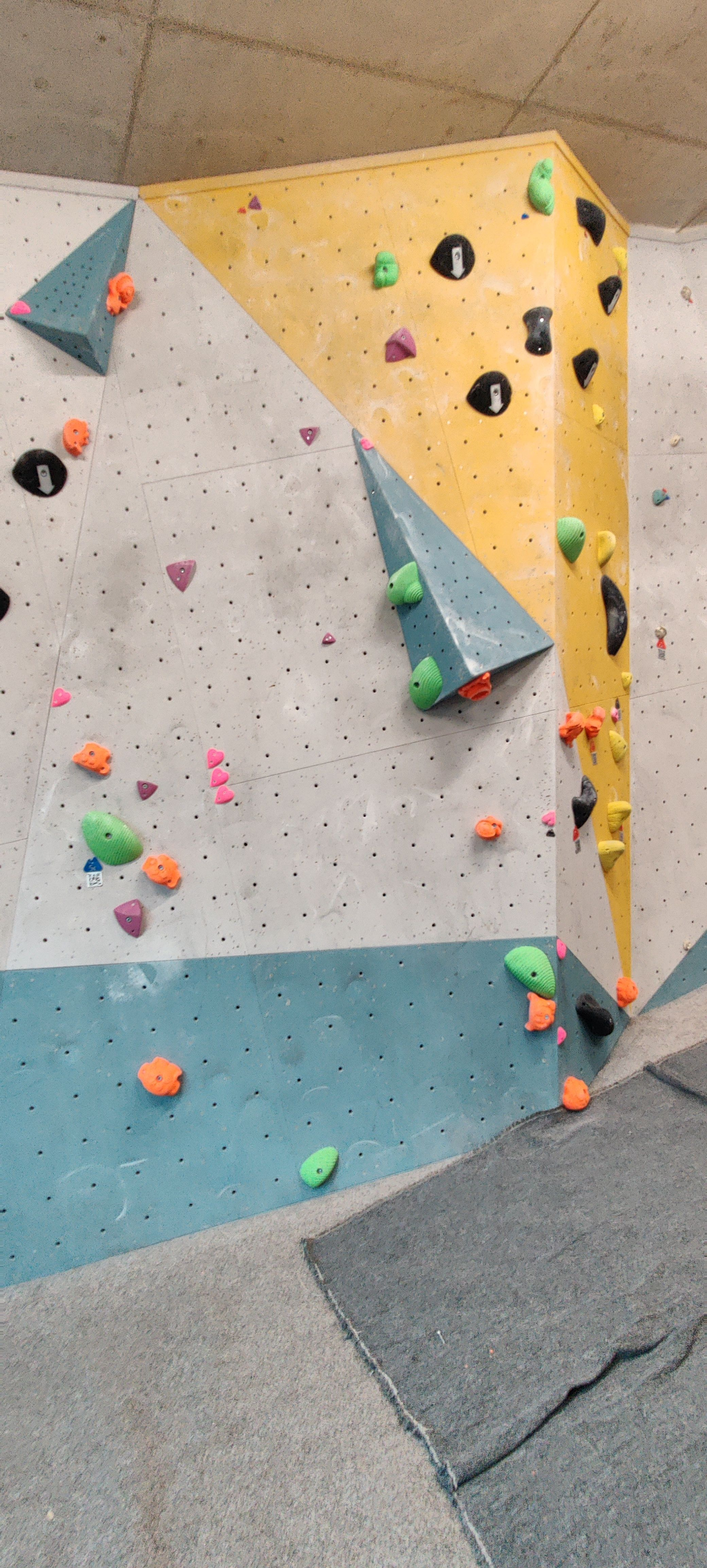hold: (81, 811, 143, 865), (504, 946, 556, 999), (12, 449, 67, 497), (601, 575, 627, 656), (431, 233, 475, 280), (467, 371, 511, 416), (138, 1057, 183, 1096), (409, 657, 442, 710), (575, 994, 614, 1036), (300, 1146, 338, 1188), (388, 561, 423, 606), (527, 160, 554, 215), (523, 306, 552, 356), (576, 197, 606, 245), (571, 775, 597, 830), (556, 517, 586, 563), (142, 854, 181, 889), (73, 742, 112, 775), (106, 272, 135, 315), (525, 992, 556, 1032), (114, 899, 143, 937), (385, 327, 416, 362), (573, 348, 599, 389), (62, 418, 89, 456), (458, 671, 492, 701), (597, 839, 625, 874), (598, 275, 622, 315), (167, 560, 196, 592), (374, 251, 399, 288), (563, 1077, 590, 1111), (559, 710, 585, 745), (607, 801, 631, 834), (596, 530, 616, 568), (616, 976, 638, 1009), (584, 707, 606, 740), (609, 729, 628, 765), (475, 816, 502, 840), (612, 245, 627, 275), (137, 780, 158, 800), (210, 765, 229, 787), (51, 688, 71, 707), (214, 785, 234, 804), (299, 426, 319, 445), (9, 300, 31, 317), (207, 748, 224, 769), (0, 587, 10, 621), (652, 489, 670, 505), (592, 404, 604, 427), (556, 938, 567, 960), (542, 810, 556, 827), (621, 670, 633, 689), (248, 195, 261, 211), (360, 437, 374, 451), (557, 1025, 566, 1045), (611, 706, 621, 724), (655, 626, 667, 641), (681, 286, 693, 300), (670, 435, 683, 447), (322, 633, 335, 644)
volume: (353, 427, 558, 719), (2, 195, 136, 380)
